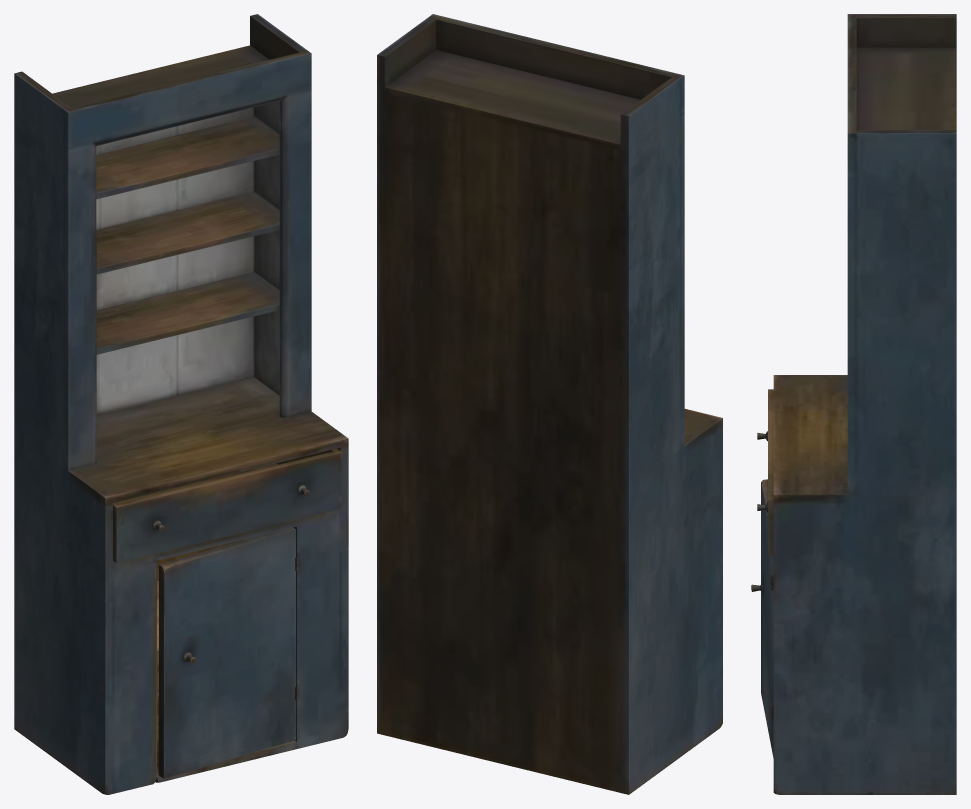
The model's file is ph-painted_wooden_cabinet_02.glb.
The picture shows the model from 3 angles, left to right: view 1: azimuth 30°, elevation 25°; view 2: azimuth 150°, elevation 25°; view 3: azimuth 270°, elevation 25°; orthographic projection. The views are drawn at different scales.
Parts seen in each view (by area): view 1: painted_wooden_cabinet_02; view 2: painted_wooden_cabinet_02; view 3: painted_wooden_cabinet_02.
Part boxes in pixels (<box>): painted_wooden_cabinet_02: <box>14,14,348,794</box>; painted_wooden_cabinet_02: <box>377,14,722,794</box>; painted_wooden_cabinet_02: <box>751,14,956,794</box>.
Bounding box in the file's own units: 0.3881 × 1 × 0.2813.
Materials: 1 (1 with a texture image).
